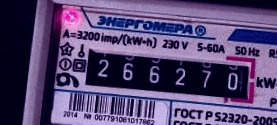0: (224, 70, 239, 91)
2: (94, 57, 111, 78), (171, 65, 188, 86)
6: (120, 60, 135, 82), (147, 63, 162, 85)
7: (197, 68, 211, 88)
screen: (74, 37, 263, 109)
